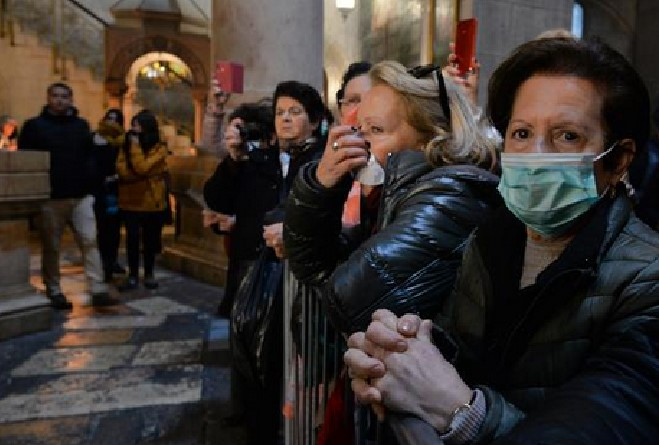face_no_mask: (358, 68, 435, 154), (271, 83, 323, 142), (46, 85, 70, 113)
face_with_mask: (491, 43, 641, 241)
